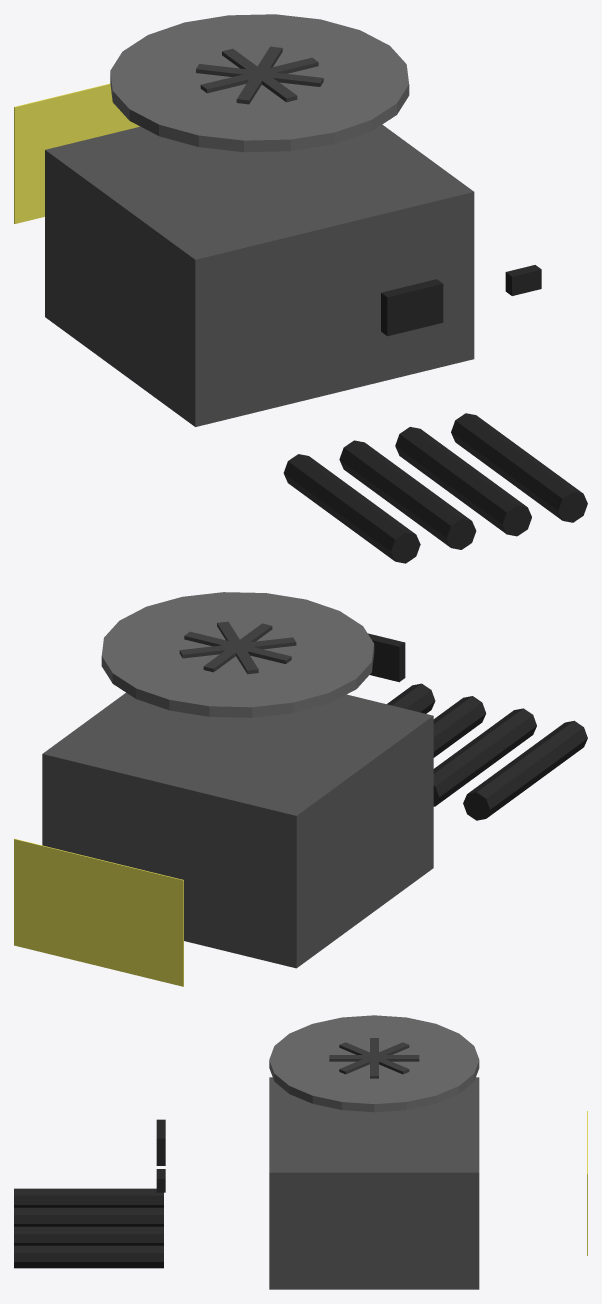
The model's file is prop_power_supply.glb.
The picture shows the model from 3 angles, top to bottom: view 1: azimuth 30°, elevation 25°; view 2: azimuth 150°, elevation 25°; view 3: azimuth 270°, elevation 25°; orthographic projection. The views are drawn at different scales.
Visible parts, largest first — view 1: prop_power_supply; view 2: prop_power_supply; view 3: prop_power_supply.
Part boxes in pixels (left/top/right/bottom): prop_power_supply: left=14, top=14, right=587, bottom=563; prop_power_supply: left=14, top=592, right=587, bottom=986; prop_power_supply: left=14, top=1015, right=587, bottom=1289.
Size of the model in its own units: 0.075 by 0.0705 by 0.1912.
